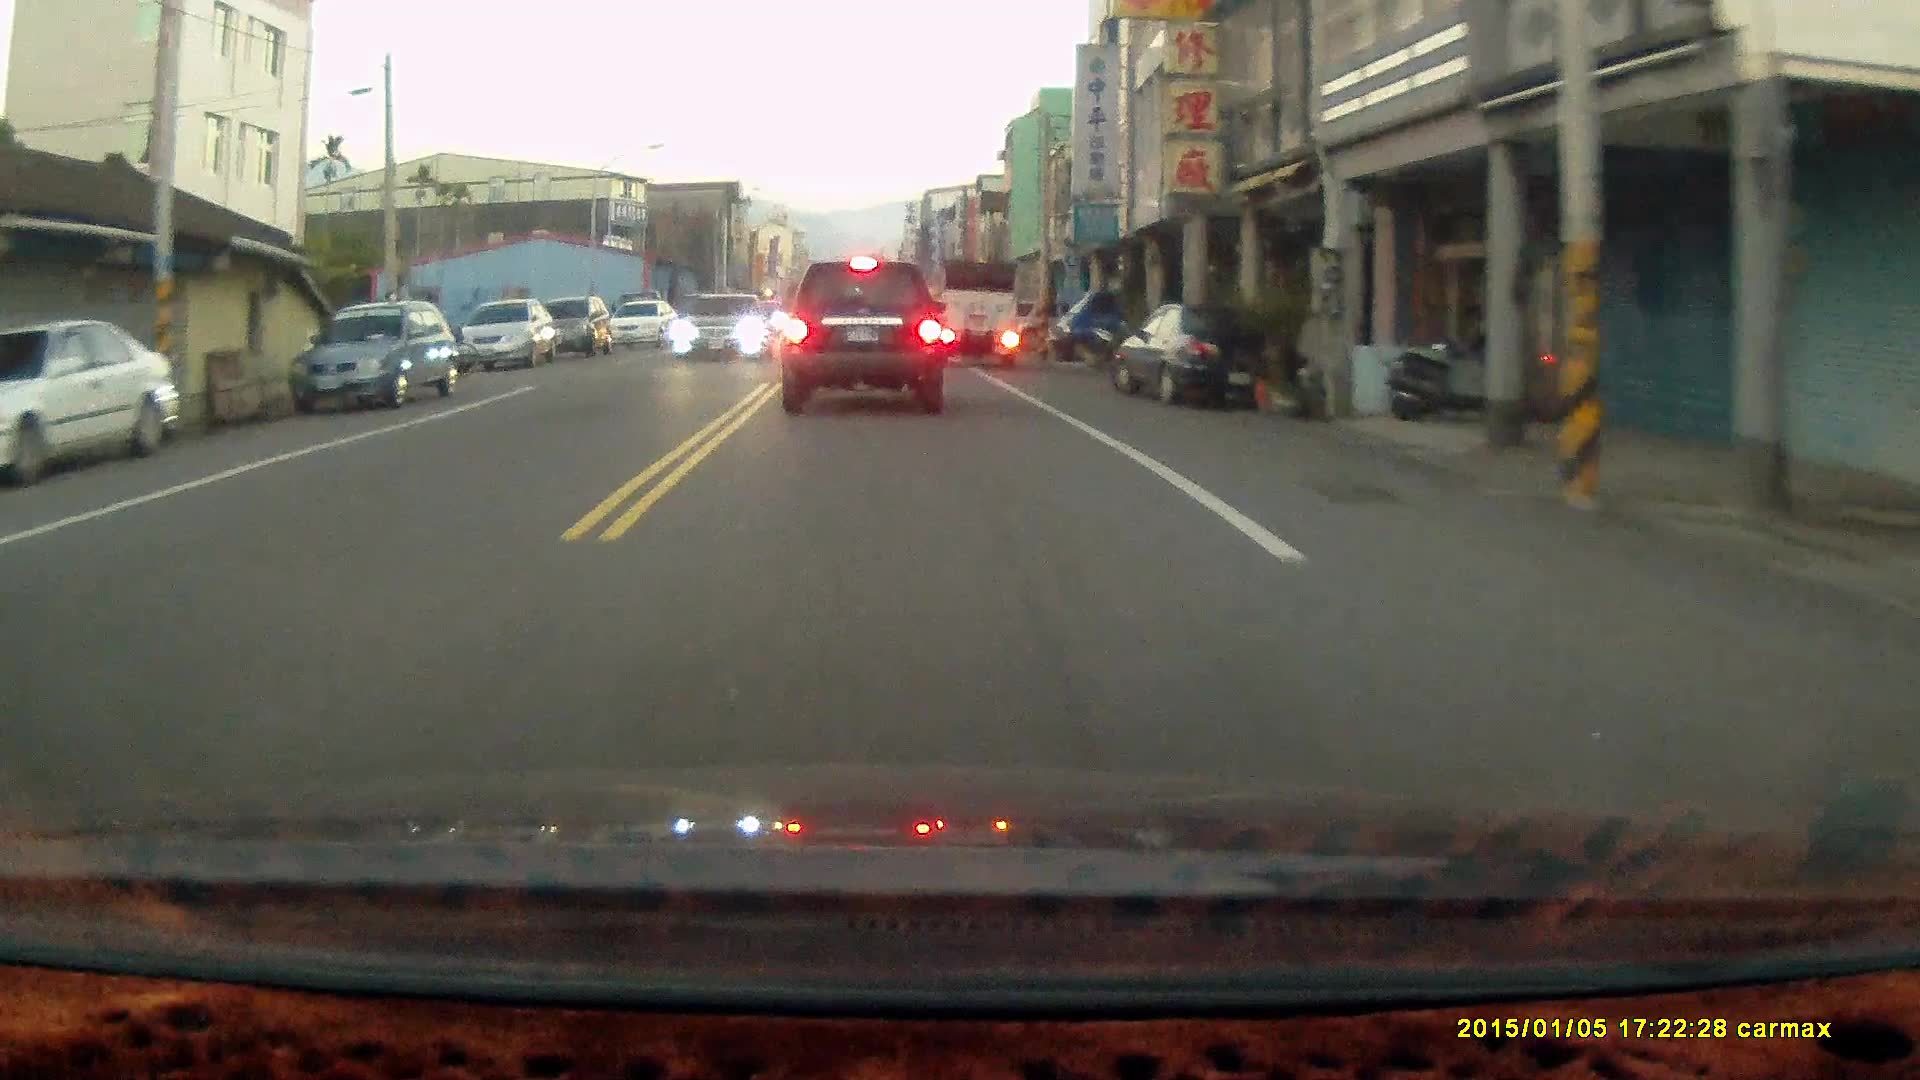vehicle: (1, 320, 183, 485), (781, 260, 947, 415), (1108, 302, 1292, 406), (291, 298, 462, 409), (1048, 280, 1189, 371), (938, 258, 1022, 372), (666, 291, 771, 364), (460, 299, 554, 376), (530, 294, 613, 357), (609, 301, 680, 353)
